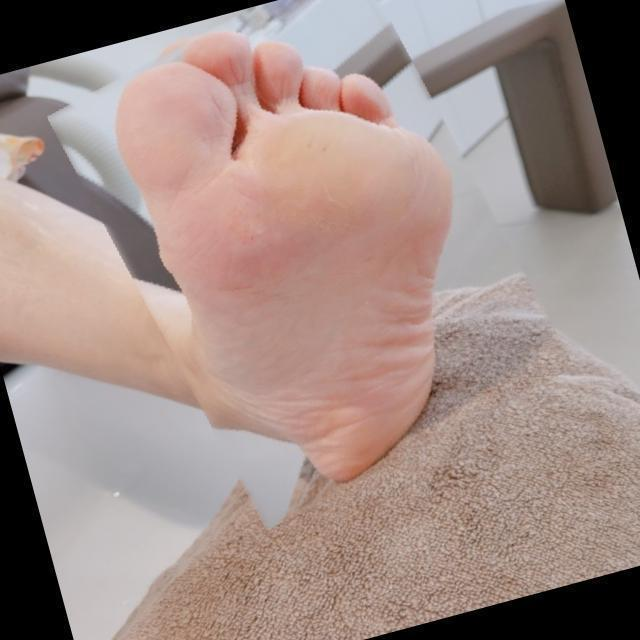No_Shoes: (112, 31, 456, 488)
